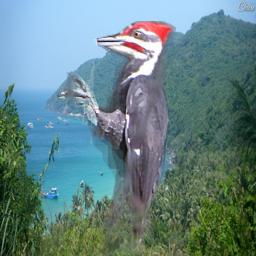Woodpecker: (56, 21, 176, 255)
